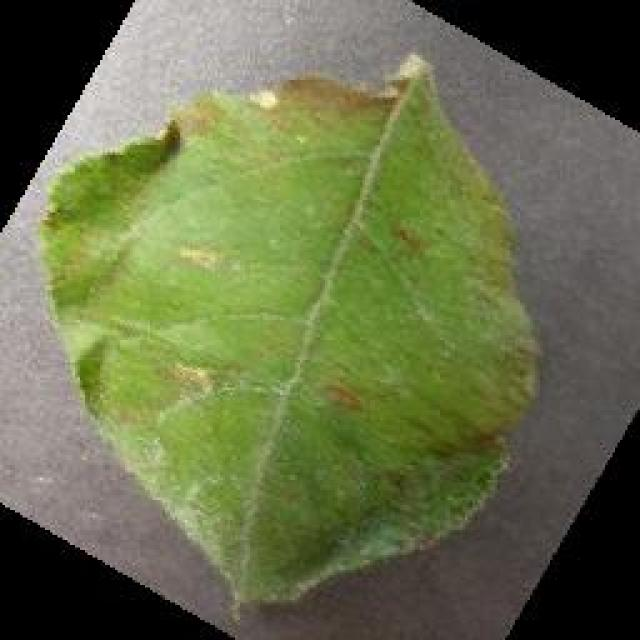apple rust disease: (35, 50, 545, 608)
